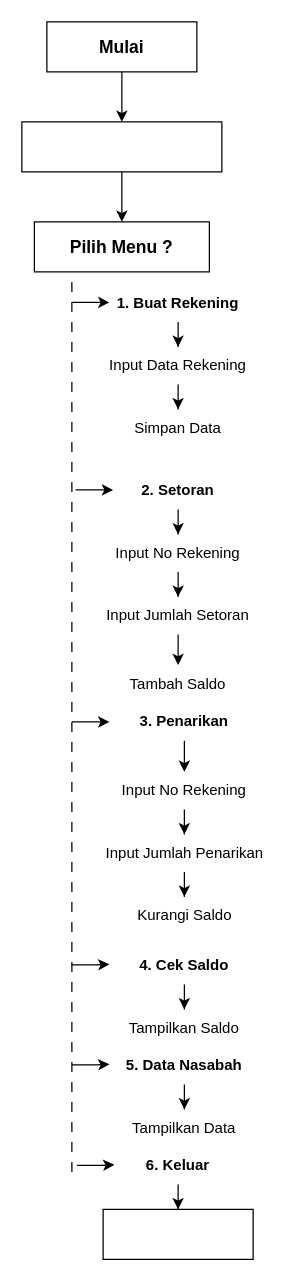
The diagram is 290 pixels wide and 1281 high, and some of its shapes have lost their labels. Each missing label, with the centre of its shape:
"Selesai" goes at point (177, 1233).
"Tampilkan Menu" goes at point (121, 146).
